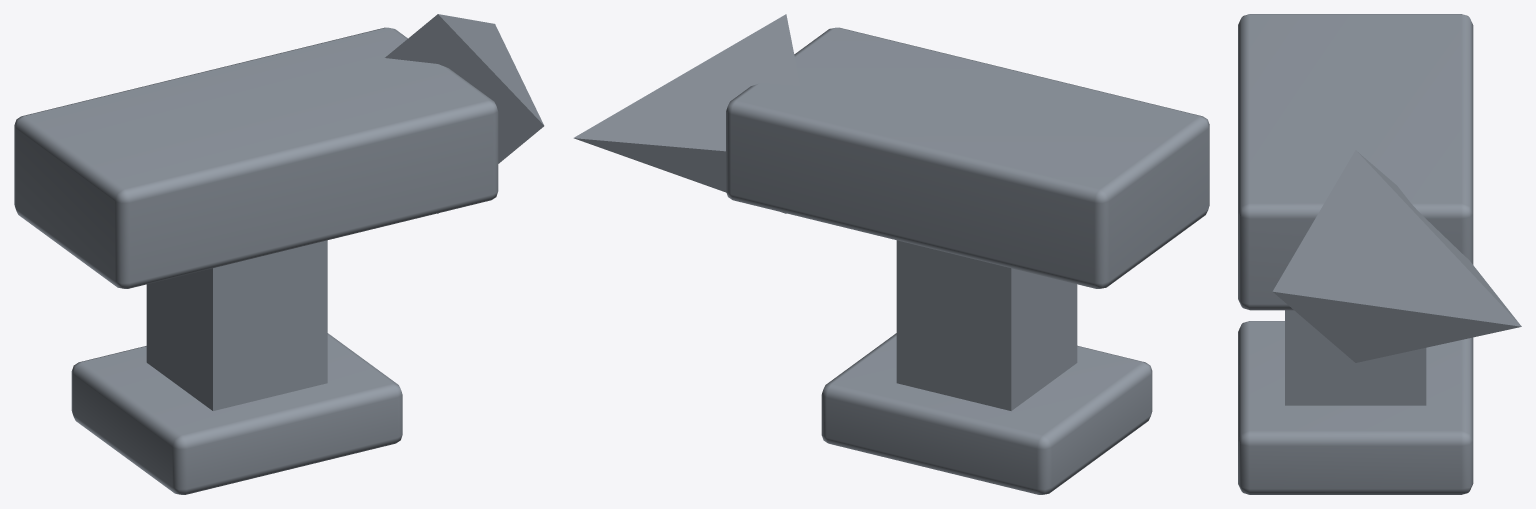
Rendered from Anvil.fbx.
3 views of the same model, side by side, from view 1: azimuth 30°, elevation 25°; view 2: azimuth 150°, elevation 25°; view 3: azimuth 270°, elevation 25° (orthographic). The views are drawn at different scales.
Visible parts, largest first — view 1: Anvil; view 2: Anvil; view 3: Anvil.
Part boxes in pixels (x1=…): Anvil: x1=14, y1=14, x2=544, y2=494; Anvil: x1=573, y1=14, x2=1209, y2=494; Anvil: x1=1238, y1=14, x2=1521, y2=494.
Bounding box in the file's own units: 2.66 × 1.85 × 1.21.
Materials: 1 (1 with a texture image).
